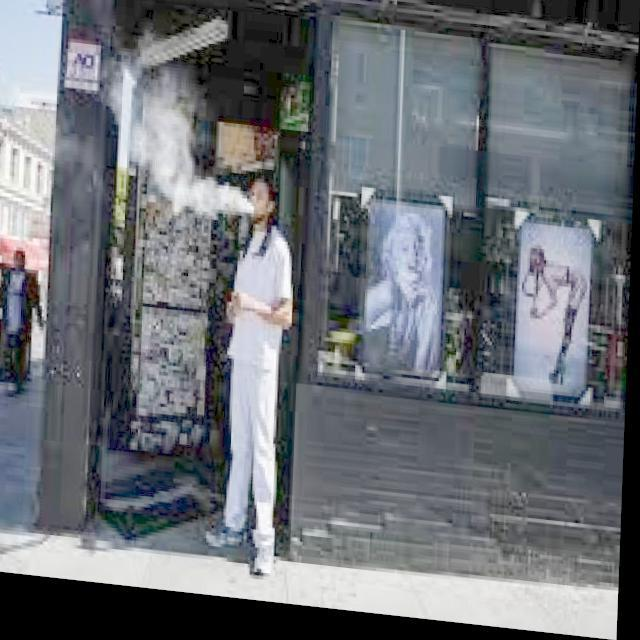Smoke: (84, 55, 260, 235)
